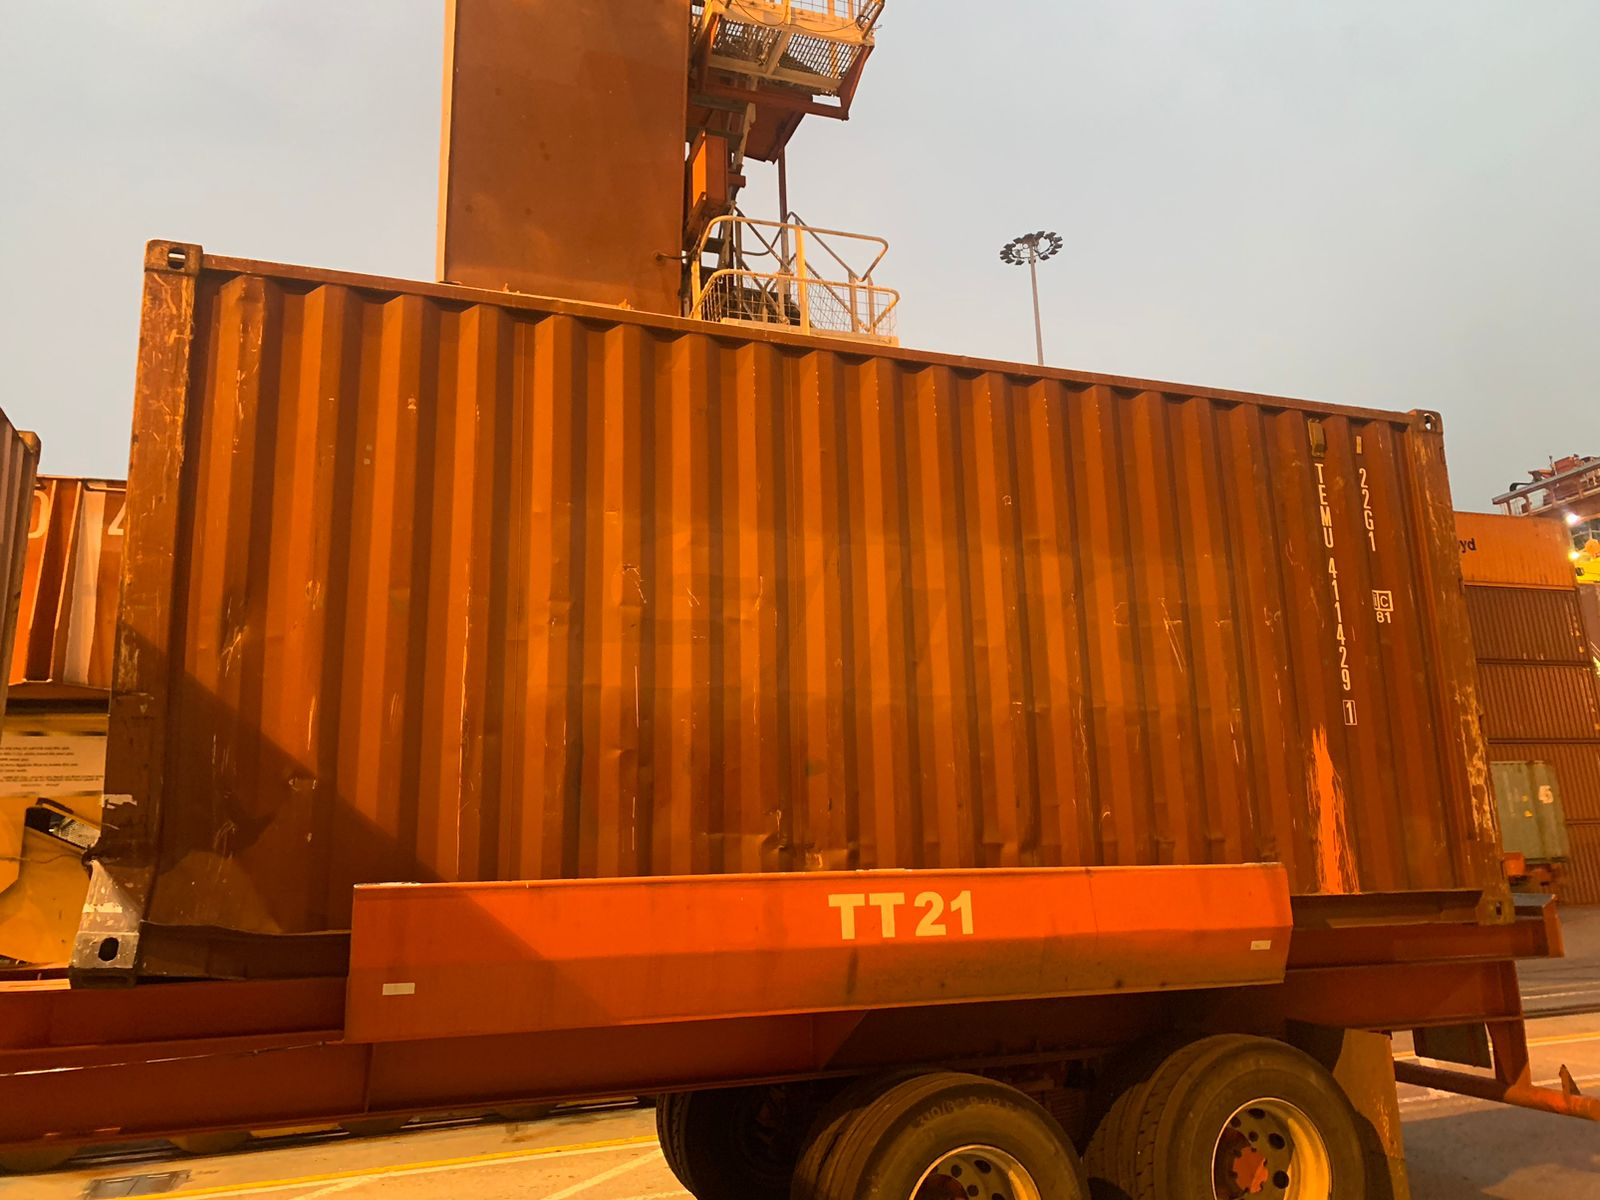moderate: (573, 787, 1285, 860), (77, 770, 354, 938)
